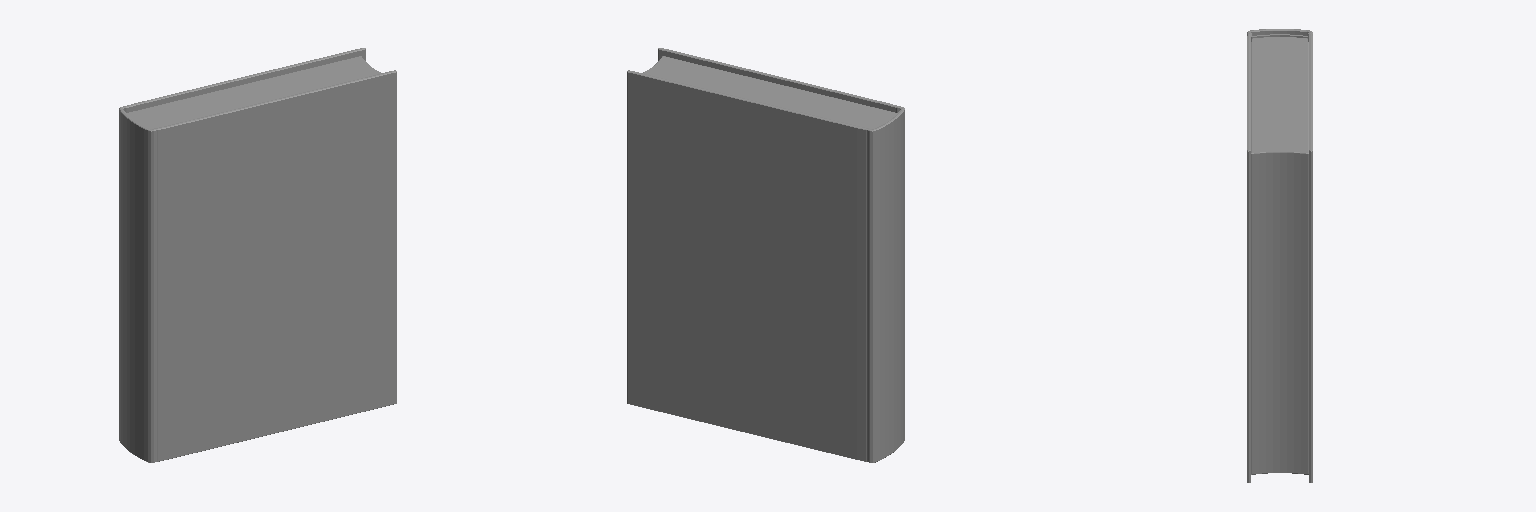
The model's file is one_book.obj.
The picture shows the model from 3 angles: view 1: azimuth 30°, elevation 25°; view 2: azimuth 150°, elevation 25°; view 3: azimuth 270°, elevation 25°; orthographic projection.
Parts seen in each view (by area): view 1: cover_cover, pages_pages; view 2: cover_cover, pages_pages; view 3: pages_pages, cover_cover.
Part boxes in pixels (bbox=[...]): cover_cover: bbox=[119, 48, 396, 462]; pages_pages: bbox=[126, 56, 380, 128]; cover_cover: bbox=[627, 48, 904, 462]; pages_pages: bbox=[643, 56, 897, 128]; pages_pages: bbox=[1251, 37, 1308, 474]; cover_cover: bbox=[1247, 29, 1312, 482].
Size of the model in its own units: 2.13 by 2.69 by 0.4886.